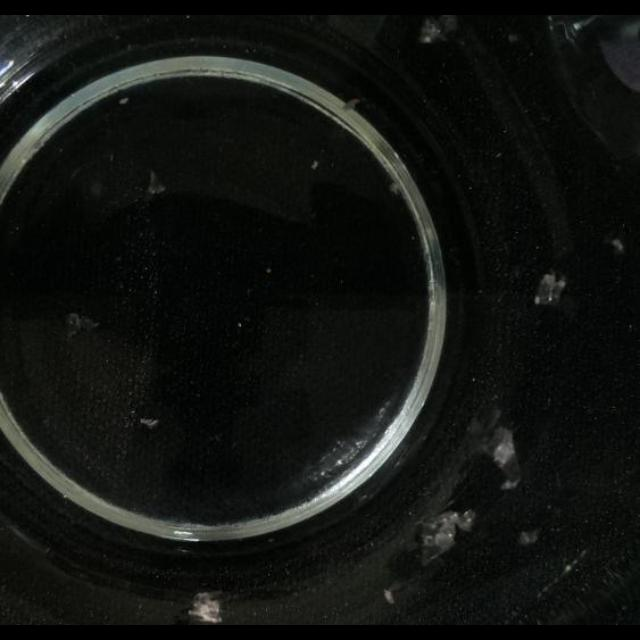Fibre: (417, 512, 475, 566), (476, 419, 520, 486), (183, 592, 223, 624), (534, 271, 568, 305), (418, 16, 456, 44), (66, 312, 100, 340), (556, 554, 584, 582), (144, 169, 166, 195), (518, 530, 542, 546), (610, 238, 626, 254), (139, 418, 159, 430), (389, 180, 403, 196), (120, 97, 130, 105)
microbeads: (384, 588, 396, 604), (310, 159, 318, 169)
